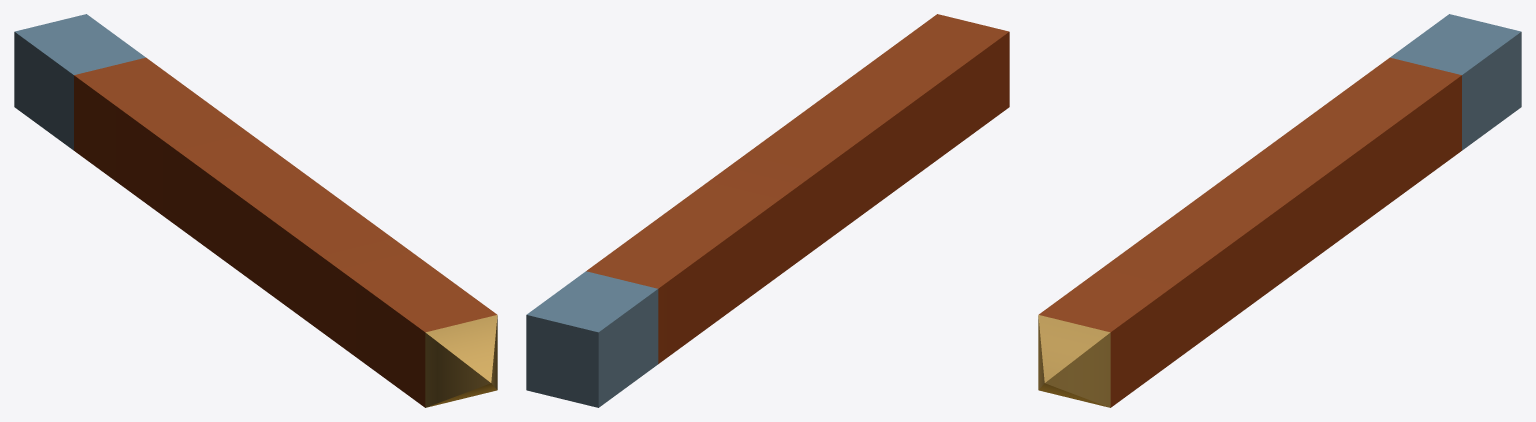
File: PRJ_Arrow.fbx
3 views of the same model, side by side, from view 1: azimuth 30°, elevation 25°; view 2: azimuth 150°, elevation 25°; view 3: azimuth 330°, elevation 25° (orthographic).
Parts seen in each view (by area): view 1: Arrow; view 2: Arrow; view 3: Arrow.
Boxes of the visible parts, <box> form: Arrow: <box>14,14,497,407</box>; Arrow: <box>526,14,1009,407</box>; Arrow: <box>1038,14,1521,407</box>.
Bounding box in the file's own units: 7 × 7 × 74.
